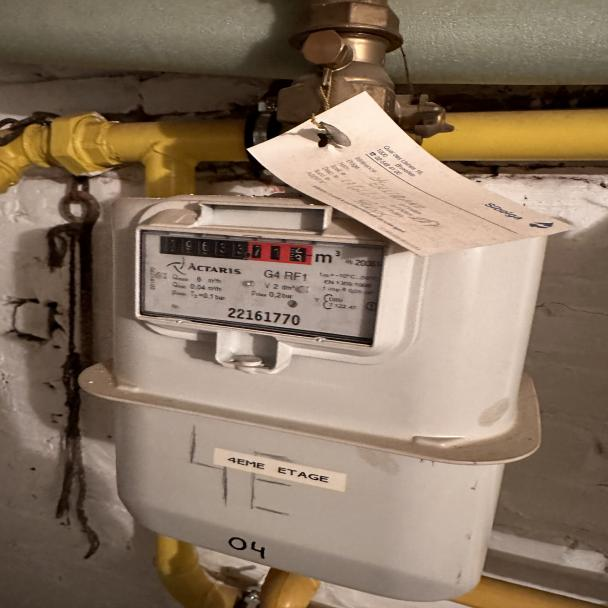1: (163, 236, 185, 257), (267, 243, 287, 263)
2: (286, 244, 312, 265)
3: (216, 238, 234, 258), (233, 240, 250, 257)
6: (199, 238, 218, 257)
7: (247, 241, 268, 263)
9: (181, 239, 199, 256)
cm: (249, 240, 313, 266), (248, 265, 251, 267)
counter: (157, 235, 248, 262)
